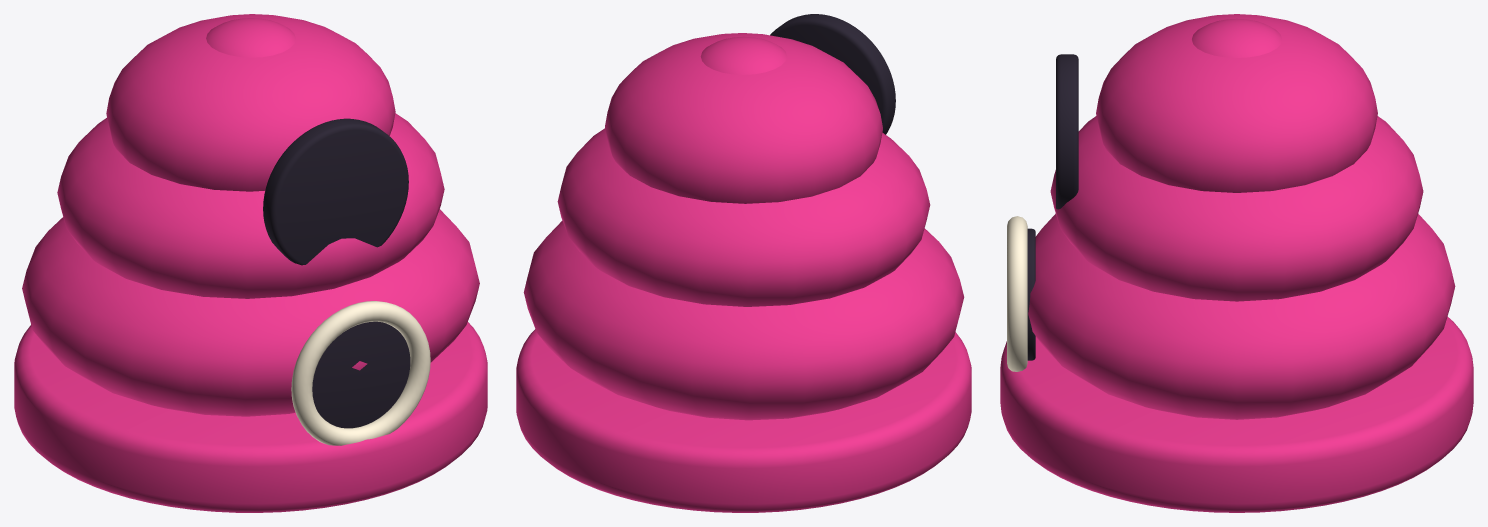
Rendered from HivePink.fbx.
The picture shows the model from 3 angles, left to right: view 1: azimuth 30°, elevation 25°; view 2: azimuth 150°, elevation 25°; view 3: azimuth 270°, elevation 25°; orthographic projection. The views are drawn at different scales.
Parts seen in each view (by area): view 1: Hive_Base_pink.001, Hive_Lower_pink.001, Hive_Top_pink.001, Hive_Mid_pink.001, Count_Plaque_pink.001, Exit_Dark_pink.001, Exit_Rim_pink.001, Hive_Crown_pink.001; view 2: Hive_Lower_pink.001, Hive_Base_pink.001, Hive_Mid_pink.001, Hive_Top_pink.001, Count_Plaque_pink.001, Hive_Crown_pink.001; view 3: Hive_Lower_pink.001, Hive_Base_pink.001, Hive_Mid_pink.001, Hive_Top_pink.001, Count_Plaque_pink.001, Exit_Rim_pink.001, Hive_Crown_pink.001, Exit_Dark_pink.001.
Part boxes in pixels (x1,y1,x2,y2): Hive_Base_pink.001: (14,322,487,512); Hive_Lower_pink.001: (22,209,479,416); Hive_Top_pink.001: (106,14,395,191); Hive_Mid_pink.001: (57,113,444,298); Count_Plaque_pink.001: (263,118,408,265); Exit_Dark_pink.001: (312,321,410,428); Exit_Rim_pink.001: (291,301,430,445); Hive_Crown_pink.001: (206,18,295,57); Hive_Lower_pink.001: (523,220,964,420); Hive_Base_pink.001: (516,329,971,512); Hive_Mid_pink.001: (557,128,930,306); Hive_Top_pink.001: (605,33,882,203); Count_Plaque_pink.001: (770,14,895,134); Hive_Crown_pink.001: (700,36,787,74); Hive_Lower_pink.001: (1028,213,1455,419); Hive_Base_pink.001: (1000,316,1473,512); Hive_Mid_pink.001: (1050,116,1423,301); Hive_Top_pink.001: (1096,14,1377,192); Count_Plaque_pink.001: (1056,54,1078,209); Exit_Rim_pink.001: (1007,216,1027,371); Hive_Crown_pink.001: (1192,18,1281,57); Exit_Dark_pink.001: (1027,228,1035,360).
Size of the model in its own units: 104 by 95 by 104.
